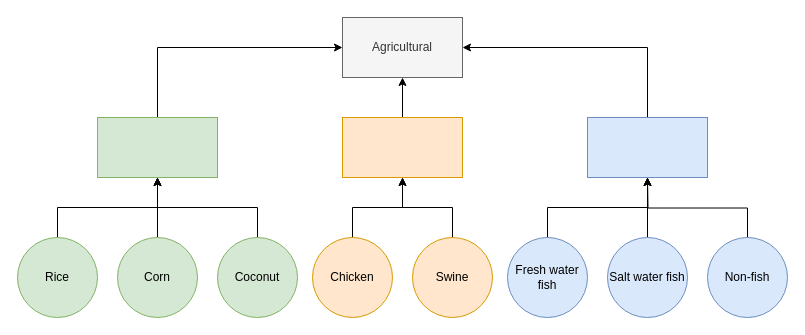
Some shapes in this 805 by 335 pixel diagram are drawn without their labels. Each missing label, with the centre of its shape:
"Aqua-marine" goes at (647,147).
"Crop" goes at (157,147).
"Livestock" goes at (402,147).
